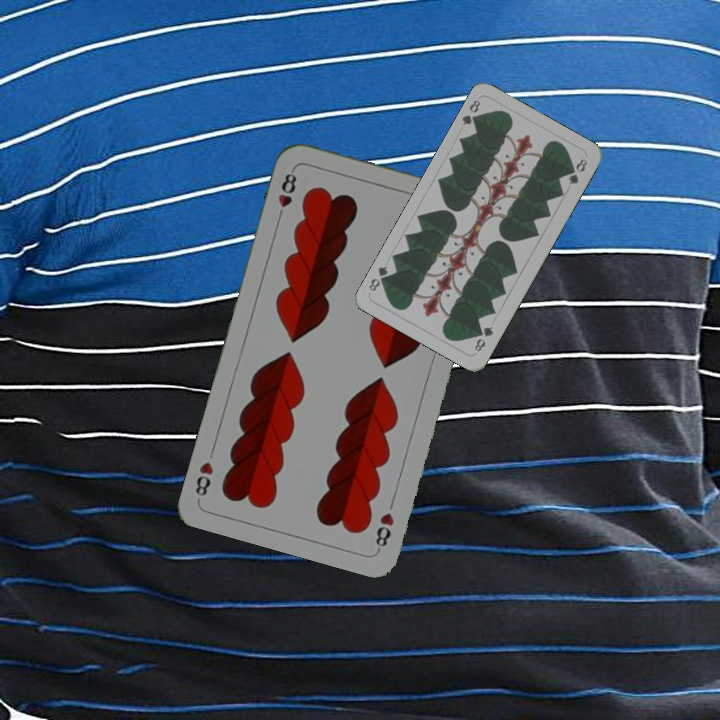G8: (470, 322, 496, 354), (458, 96, 483, 128)
H8: (273, 165, 300, 223), (371, 508, 397, 553)
